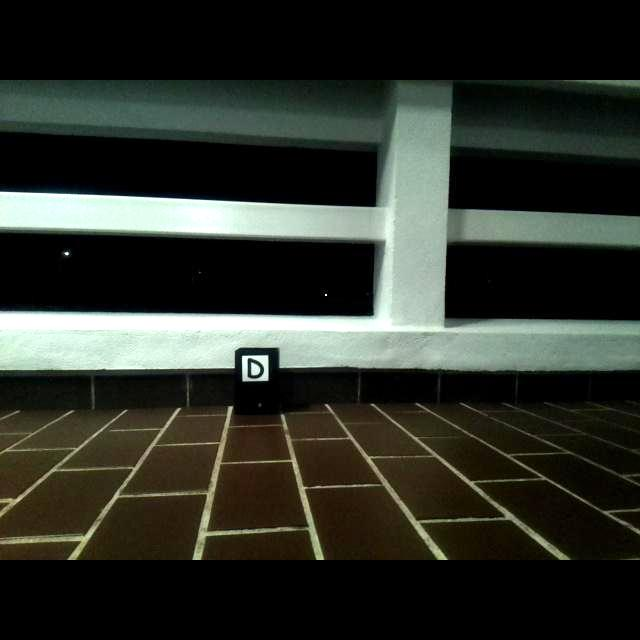D: (246, 357, 265, 380)
